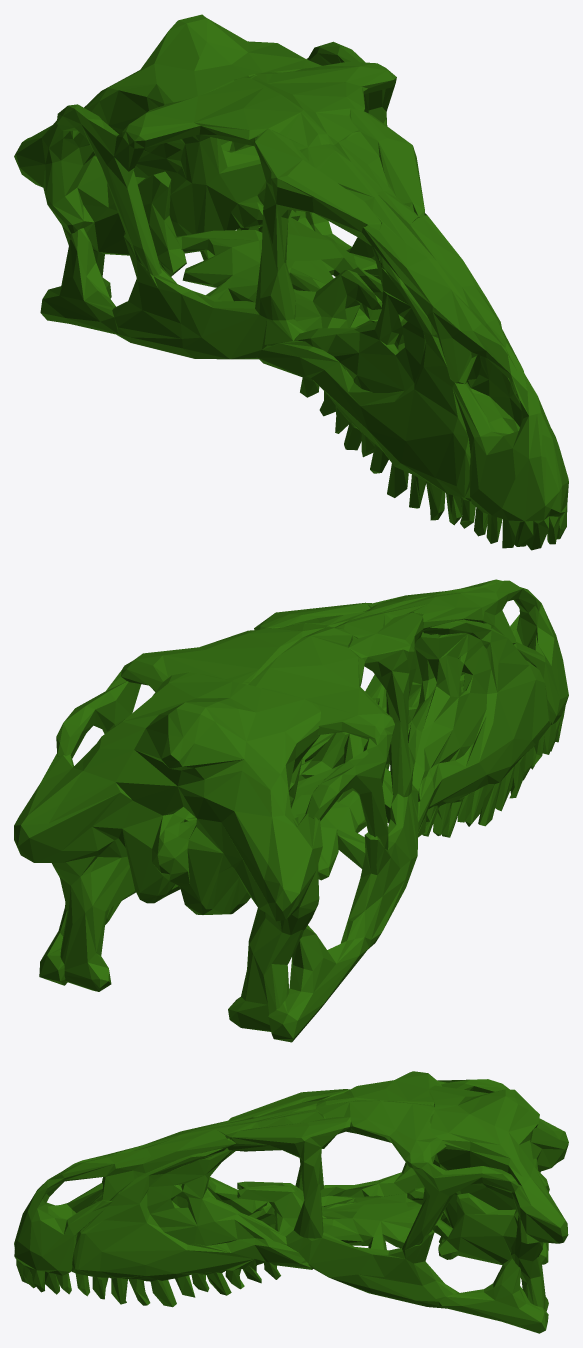
File: SkeletonRexHead.fbx
3 views of the same model, one above another, from view 1: azimuth 30°, elevation 25°; view 2: azimuth 150°, elevation 25°; view 3: azimuth 270°, elevation 25° (orthographic). The views are drawn at different scales.
Visible parts, largest first — view 1: SkeletonRexHead; view 2: SkeletonRexHead; view 3: SkeletonRexHead.
Part boxes in pixels (box(x1,y1,x2,y2)): SkeletonRexHead: box(14, 14, 568, 550); SkeletonRexHead: box(14, 579, 568, 1042); SkeletonRexHead: box(14, 1071, 568, 1333).
Size of the model in its own units: 121 by 117 by 295.
